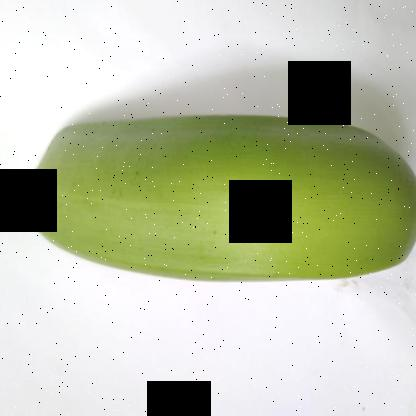freshunripe: (17, 86, 416, 322)
